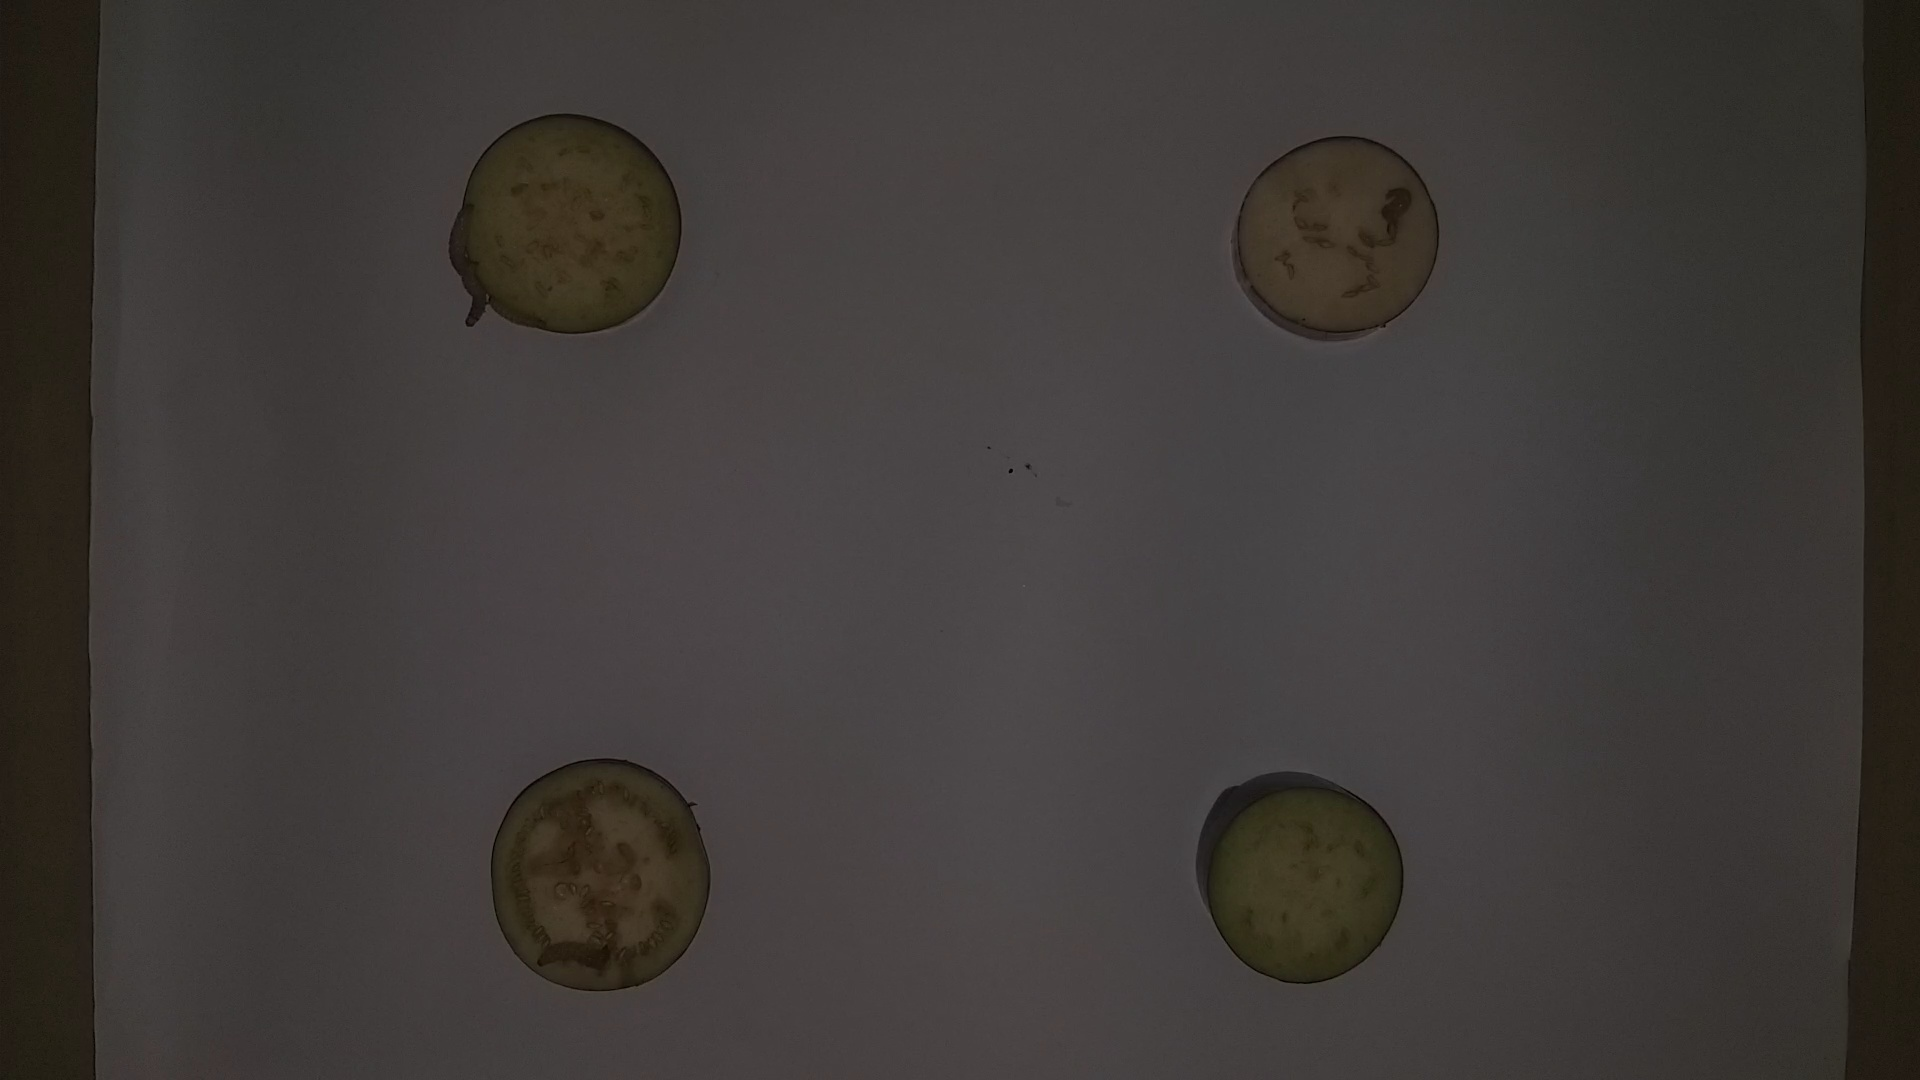efsb: (534, 934, 612, 977), (481, 286, 551, 330), (444, 199, 479, 284), (458, 251, 487, 327), (1377, 182, 1418, 233)
eggplant: (477, 752, 727, 1004), (1184, 750, 1411, 996), (462, 109, 691, 347), (1224, 129, 1451, 351)
